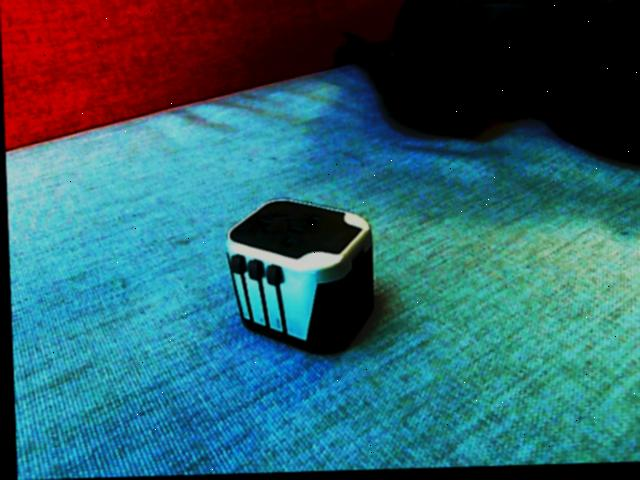adapter: (222, 198, 375, 358)
